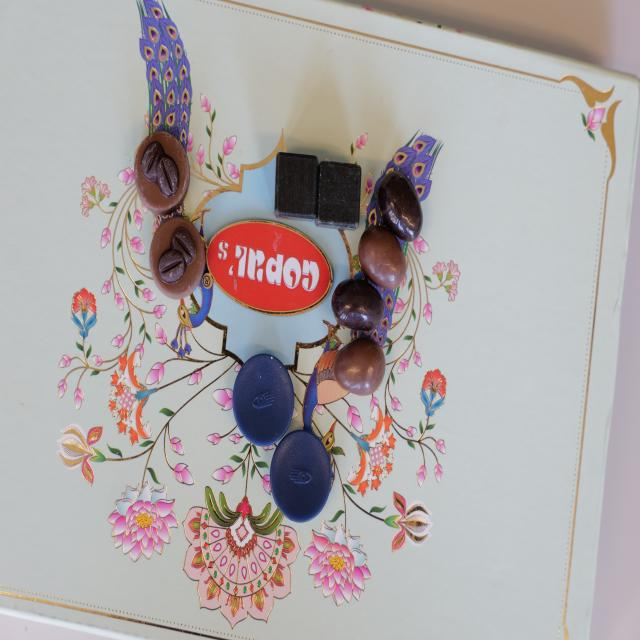Arabia: (150, 215, 206, 300), (135, 130, 191, 214)
Jelly_Black: (376, 170, 424, 243), (331, 278, 385, 332)
Jelly_Milk: (333, 336, 386, 395), (358, 226, 408, 288)
